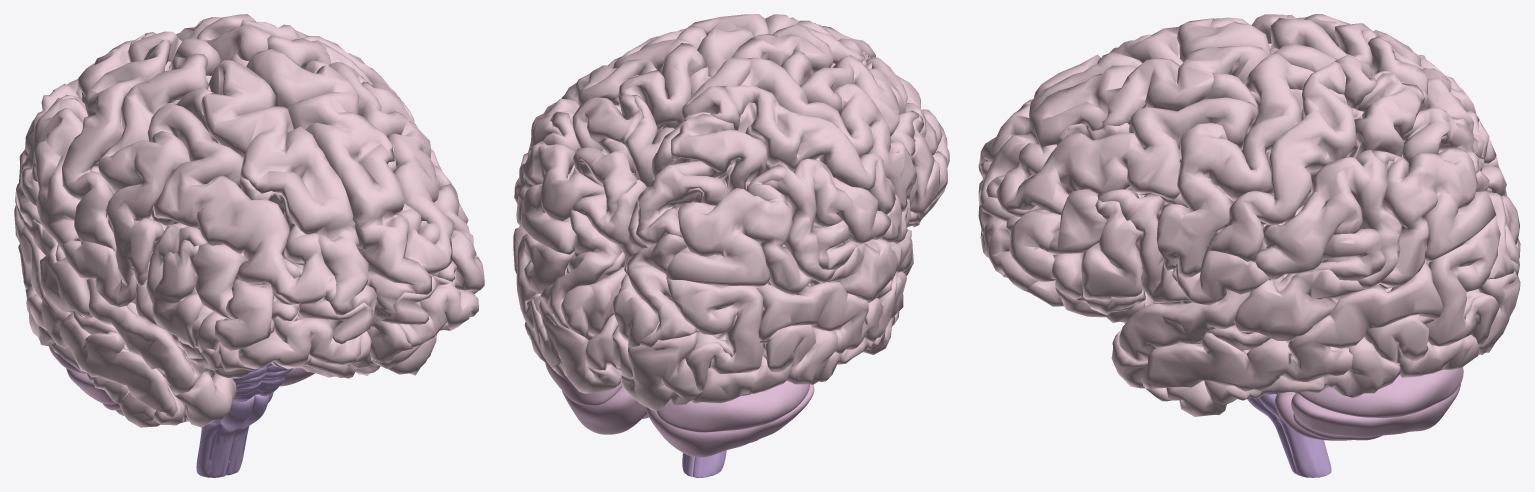
File: brain.glb
3 views of the same model, side by side, from view 1: azimuth 30°, elevation 25°; view 2: azimuth 150°, elevation 25°; view 3: azimuth 270°, elevation 25° (orthographic). The views are drawn at different scales.
Parts seen in each view (by area): view 1: cerebrum-middle-frontal-gyrus-right__Middle frontal gyrus.r, cerebrum-superior-frontal-gyrus-right__Superior frontal gyru, cerebrum-superior-frontal-gyrus-left__Superior frontal gyrus, cerebrum-precentral-gyrus-right__Precentral gyrus.r, cerebrum-middle-frontal-gyrus-left__Middle frontal gyrus.l, cerebrum-postcentral-gyrus-right__Postcentral gyrus.r, cerebrum-middle-temporal-gyrus-right__Middle temporal gyrus., cerebrum-superior-temporal-gyrus-lateral-part-right__Superio, cerebrum-supramarginal-gyrus-right__Supramarginal gyrus.r, cerebrum-orbital-gyri-frontomarginal-gyrus-and-sulcus-right_, cerebrum-triangular-part-of-inferior-frontal-gyrus-right__Tr, cerebrum-inferior-frontal-sulcus-right__Inferior frontal sul (+27 smaller); view 2: cerebrum-angular-gyrus-right__Angular gyrus.r, cerebrum-superior-parietal-lobule-right__Superior parietal l, cerebrum-postcentral-gyrus-right__Postcentral gyrus.r, cerebrum-supramarginal-gyrus-right__Supramarginal gyrus.r, cerebrum-angular-gyrus-left__Angular gyrus.l, cerebrum-lateral-occipital-gyrus-middle-occipital-gyrus-righ, cerebrum-precentral-gyrus-right__Precentral gyrus.r, cerebrum-middle-temporal-gyrus-right__Middle temporal gyrus., cerebrum-superior-parietal-lobule-left__Superior parietal lo, cerebrum-middle-frontal-gyrus-right__Middle frontal gyrus.r, cerebrum-inferior-temporal-gyrus-right__Inferior temporal gy, cerebellum-superior-semilunar-lobule-right__Superior semilun (+32 smaller); view 3: cerebrum-middle-frontal-gyrus-left__Middle frontal gyrus.l, cerebrum-precentral-gyrus-left__Precentral gyrus.l, cerebrum-middle-temporal-gyrus-left__Middle temporal gyrus.l, cerebrum-superior-frontal-gyrus-left__Superior frontal gyrus, cerebrum-postcentral-gyrus-left__Postcentral gyrus.l, cerebrum-supramarginal-gyrus-left__Supramarginal gyrus.l, cerebrum-superior-temporal-gyrus-lateral-part-left__Superior, cerebrum-angular-gyrus-left__Angular gyrus.l, cerebrum-inferior-temporal-gyrus-left__Inferior temporal gyr, cerebrum-superior-frontal-gyrus-right__Superior frontal gyru, cerebrum-superior-parietal-lobule-left__Superior parietal lo, cerebrum-lateral-occipital-gyrus-middle-occipital-gyrus-left (+26 smaller).
Part boxes in pixels (x1,y1,x2,y2): cerebrum-middle-frontal-gyrus-right__Middle frontal gyrus.r: [147, 103, 336, 350]; cerebrum-superior-frontal-gyrus-right__Superior frontal gyru: [201, 60, 376, 320]; cerebrum-superior-frontal-gyrus-left__Superior frontal gyrus: [230, 49, 431, 327]; cerebrum-precentral-gyrus-right__Precentral gyrus.r: [98, 53, 208, 285]; cerebrum-middle-frontal-gyrus-left__Middle frontal gyrus.l: [328, 62, 484, 291]; cerebrum-postcentral-gyrus-right__Postcentral gyrus.r: [62, 40, 170, 251]; cerebrum-middle-temporal-gyrus-right__Middle temporal gyrus.: [14, 205, 177, 418]; cerebrum-superior-temporal-gyrus-lateral-part-right__Superio: [25, 219, 199, 395]; cerebrum-supramarginal-gyrus-right__Supramarginal gyrus.r: [15, 97, 87, 249]; cerebrum-orbital-gyri-frontomarginal-gyrus-and-sulcus-right_: [238, 308, 361, 369]; cerebrum-triangular-part-of-inferior-frontal-gyrus-right__Tr: [152, 239, 203, 347]; cerebrum-inferior-frontal-sulcus-right__Inferior frontal sul: [151, 206, 246, 318]; cerebrum-angular-gyrus-right__Angular gyrus.r: [666, 164, 812, 294]; cerebrum-superior-parietal-lobule-right__Superior parietal l: [636, 113, 766, 246]; cerebrum-postcentral-gyrus-right__Postcentral gyrus.r: [724, 85, 895, 214]; cerebrum-supramarginal-gyrus-right__Supramarginal gyrus.r: [762, 158, 891, 282]; cerebrum-angular-gyrus-left__Angular gyrus.l: [516, 111, 604, 254]; cerebrum-lateral-occipital-gyrus-middle-occipital-gyrus-righ: [666, 278, 763, 391]; cerebrum-precentral-gyrus-right__Precentral gyrus.r: [741, 57, 916, 211]; cerebrum-middle-temporal-gyrus-right__Middle temporal gyrus.: [756, 271, 906, 353]; cerebrum-superior-parietal-lobule-left__Superior parietal lo: [571, 94, 644, 233]; cerebrum-middle-frontal-gyrus-right__Middle frontal gyrus.r: [800, 55, 949, 167]; cerebrum-inferior-temporal-gyrus-right__Inferior temporal gy: [760, 316, 895, 384]; cerebellum-superior-semilunar-lobule-right__Superior semilun: [656, 380, 809, 432]; cerebrum-middle-frontal-gyrus-left__Middle frontal gyrus.l: [986, 97, 1258, 281]; cerebrum-precentral-gyrus-left__Precentral gyrus.l: [1156, 52, 1314, 277]; cerebrum-middle-temporal-gyrus-left__Middle temporal gyrus.l: [1141, 262, 1442, 391]; cerebrum-superior-frontal-gyrus-left__Superior frontal gyrus: [978, 45, 1267, 205]; cerebrum-postcentral-gyrus-left__Postcentral gyrus.l: [1205, 61, 1356, 262]; cerebrum-supramarginal-gyrus-left__Supramarginal gyrus.l: [1254, 150, 1401, 289]; cerebrum-superior-temporal-gyrus-lateral-part-left__Superior: [1119, 269, 1364, 362]; cerebrum-angular-gyrus-left__Angular gyrus.l: [1371, 148, 1496, 288]; cerebrum-inferior-temporal-gyrus-left__Inferior temporal gyr: [1166, 314, 1434, 416]; cerebrum-superior-frontal-gyrus-right__Superior frontal gyru: [978, 18, 1278, 181]; cerebrum-superior-parietal-lobule-left__Superior parietal lo: [1354, 73, 1484, 173]; cerebrum-lateral-occipital-gyrus-middle-occipital-gyrus-left: [1425, 215, 1500, 346].
Bounding box in the file's own units: 0.1378 × 0.1608 × 0.1807.
